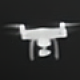plane: (7, 20, 79, 62)
